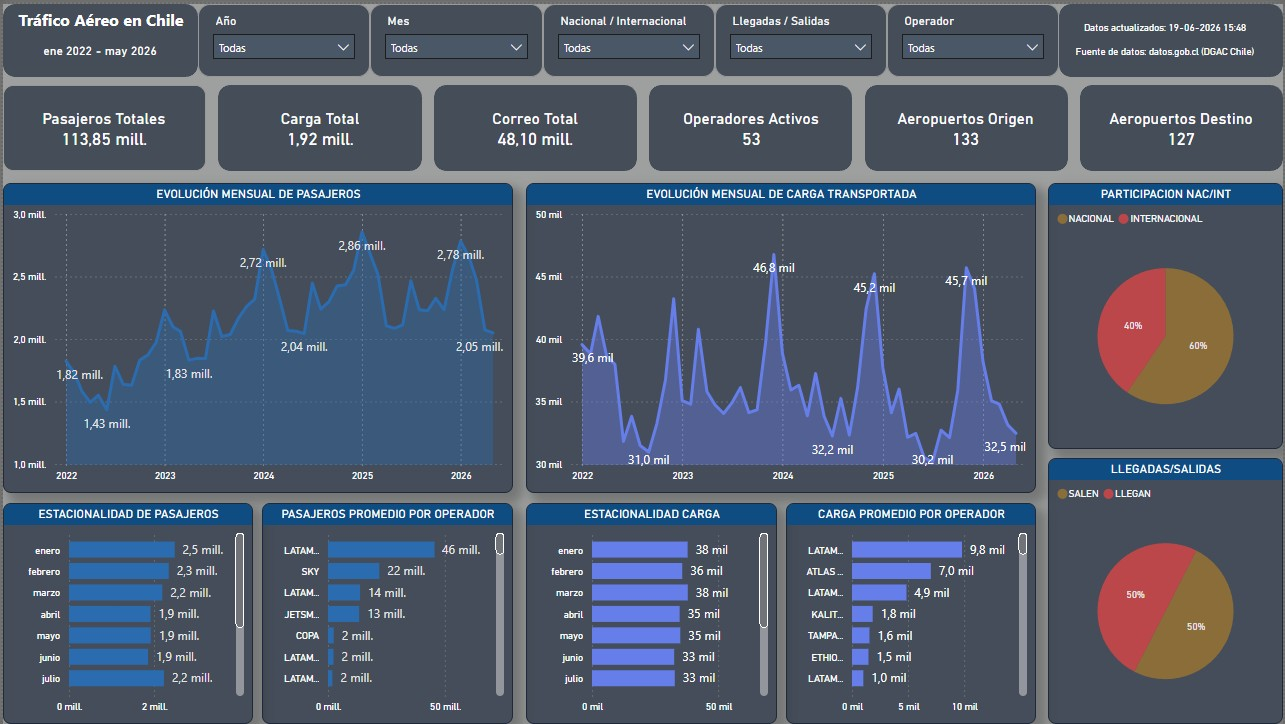

This screenshot's page, from the dashboard's own definition file:
{"tool":"powerbi","page":{"name":"Dashboard","canvas":[1280,720],"ordinal":0},"visuals":[{"type":"shape","box":[884.1,0,172.3,72.5],"z":0},{"type":"shape","box":[0,80.7,203.1,86.1],"z":1000},{"type":"shape","box":[0,0,195,72.5],"z":2000},{"type":"textbox","box":[8.2,0,180.5,36.3],"z":3000},{"type":"shape","box":[195,0,172.3,72.5],"z":4000},{"type":"slicer","fields":{"Values":["DIM_Calendario.Año"]},"box":[195,0,172.3,72.5],"z":5000},{"type":"shape","box":[367.3,0,172.3,72.5],"z":6000},{"type":"slicer","fields":{"Values":["DIM_Operador.Operador"]},"box":[884.1,0,172.3,72.5],"z":7000},{"type":"shape","box":[539.5,0,172.3,72.5],"z":8000},{"type":"slicer","fields":{"Values":["DIM_Nac/Int.NAC"]},"box":[539.5,0,172.3,72.5],"z":9000},{"type":"shape","box":[711.8,0,172.3,72.5],"z":10000},{"type":"slicer","fields":{"Values":["DIM_Operacion.Llegadas / Salidas"]},"box":[711.8,0,172.3,72.5],"z":11000},{"type":"cardVisual","fields":{"Data":["Medidas.Pasajeros Totales"]},"box":[0,80.7,203.1,86.1],"z":12000},{"type":"shape","box":[215.5,80.7,203.1,86.1],"z":13000},{"type":"cardVisual","fields":{"Data":["Medidas.Carga Total"]},"box":[215.8,80.7,203.1,86.1],"z":14000},{"type":"shape","box":[430.9,80.7,203.1,86.1],"z":15000},{"type":"cardVisual","fields":{"Data":["Medidas.Correo Total"]},"box":[430.7,80.7,203.1,86.1],"z":16000},{"type":"shape","box":[646.4,80.7,203.1,86.1],"z":17000},{"type":"shape","box":[861.8,80.7,203.1,86.1],"z":18000},{"type":"shape","box":[1076.9,80.7,203.1,86.1],"z":19000},{"type":"cardVisual","fields":{"Data":["Medidas.Operadores Activos"]},"box":[646.5,80.7,203.1,86.1],"z":20000},{"type":"cardVisual","fields":{"Data":["Medidas.Aeropuertos Origen"]},"box":[861.5,80.7,203.1,86.1],"z":21000},{"type":"cardVisual","fields":{"Data":["Medidas.Aeropuertos Destino"]},"box":[1077.3,80.7,203.1,86.1],"z":22000},{"type":"shape","box":[1056.4,0,224,72.5],"z":23000},{"type":"cardVisual","fields":{"Data":["Medidas.Fuente Dashboard"]},"box":[1044.6,0,235.8,45.3],"z":24000},{"type":"cardVisual","fields":{"Data":["Medidas.Periodo Seleccionado"]},"box":[0,18.1,195,54.4],"z":25000},{"type":"textbox","box":[1068.2,31.7,200.4,27.2],"z":26000},{"type":"slicer","fields":{"Values":["DIM_Calendario.Mes"]},"box":[367.3,0,172.3,72.5],"z":27000},{"type":"lineChart","title":"EVOLUCIÓN MENSUAL DE PASAJEROS","fields":{"Y":["Medidas.Pasajeros Totales"],"Category":["DIM_Calendario.Fecha.Variación.Jerarquía de fechas.Año","DIM_Calendario.Fecha.Variación.Jerarquía de fechas.Mes"]},"box":[0,178.6,510,310.1],"z":28000},{"type":"lineChart","title":"EVOLUCIÓN MENSUAL DE CARGA TRANSPORTADA","fields":{"Y":["Medidas.Carga Total"],"Category":["DIM_Calendario.Fecha.Variación.Jerarquía de fechas.Año","DIM_Calendario.Fecha.Variación.Jerarquía de fechas.Mes"]},"box":[523.2,178.6,509.6,310.1],"z":29000},{"type":"barChart","title":"ESTACIONALIDAD DE PASAJEROS","fields":{"Category":["DIM_Calendario.Mes"],"Y":["Medidas.Promedio Mensual Pasajeros"]},"box":[0,498.7,250.3,221.3],"z":30000},{"type":"barChart","title":"PASAJEROS PROMEDIO POR OPERADOR","fields":{"Y":["Medidas.Pasajeros Totales"],"Category":["DIM_Operador.Operador"]},"box":[259.3,498.7,250.3,221.3],"z":31000},{"type":"barChart","title":"ESTACIONALIDAD CARGA","fields":{"Category":["DIM_Calendario.Mes"],"Y":["Medidas.Promedio Mensual Carga"]},"box":[523.2,498.7,250.3,221.3],"z":32000},{"type":"barChart","title":"CARGA PROMEDIO POR OPERADOR","fields":{"Category":["DIM_Operador.Operador"],"Y":["Medidas.Promedio Mensual Carga"]},"box":[782.6,498.7,250.3,221.3],"z":33000},{"type":"pieChart","title":"PARTICIPACION NAC/INT","fields":{"Category":["DIM_Nac/Int.Nacional / Internacional"],"Y":["Medidas.Pasajeros Totales"]},"box":[1044.6,178.6,235.8,266],"z":34000},{"type":"pieChart","title":"LLEGADAS/SALIDAS","fields":{"Y":["Medidas.Pasajeros Totales"],"Category":["DIM_Operacion.Llegadas / Salidas"]},"box":[1044.6,454.3,235.8,265.7],"z":35000}]}

Visuals, with their boxes in screenshot pixels (x1, y1, x2, y2), scaled from the page's 1280x720 canvas onto the 1285x724 screenshot:
shape: 888/0/1061/73
shape: 0/81/204/168
shape: 0/0/196/73
textbox: 8/0/189/37
shape: 196/0/369/73
slicer - DIM_Calendario.Año: 196/0/369/73
shape: 369/0/542/73
slicer - DIM_Operador.Operador: 888/0/1061/73
shape: 542/0/715/73
slicer - DIM_Nac/Int.NAC: 542/0/715/73
shape: 715/0/888/73
slicer - DIM_Operacion.Llegadas / Salidas: 715/0/888/73
cardVisual - Medidas.Pasajeros Totales: 0/81/204/168
shape: 216/81/420/168
cardVisual - Medidas.Carga Total: 217/81/421/168
shape: 433/81/636/168
cardVisual - Medidas.Correo Total: 432/81/636/168
shape: 649/81/853/168
shape: 865/81/1069/168
shape: 1081/81/1284/168
cardVisual - Medidas.Operadores Activos: 649/81/853/168
cardVisual - Medidas.Aeropuertos Origen: 865/81/1069/168
cardVisual - Medidas.Aeropuertos Destino: 1082/81/1284/168
shape: 1061/0/1284/73
cardVisual - Medidas.Fuente Dashboard: 1049/0/1284/46
cardVisual - Medidas.Periodo Seleccionado: 0/18/196/73
textbox: 1072/32/1274/59
slicer - DIM_Calendario.Mes: 369/0/542/73
"EVOLUCIÓN MENSUAL DE PASAJEROS" lineChart: 0/180/512/491
"EVOLUCIÓN MENSUAL DE CARGA TRANSPORTADA" lineChart: 525/180/1037/491
"ESTACIONALIDAD DE PASAJEROS" barChart: 0/501/251/723
"PASAJEROS PROMEDIO POR OPERADOR" barChart: 260/501/512/723
"ESTACIONALIDAD CARGA" barChart: 525/501/777/723
"CARGA PROMEDIO POR OPERADOR" barChart: 786/501/1037/723
"PARTICIPACION NAC/INT" pieChart: 1049/180/1284/447
"LLEGADAS/SALIDAS" pieChart: 1049/457/1284/723
